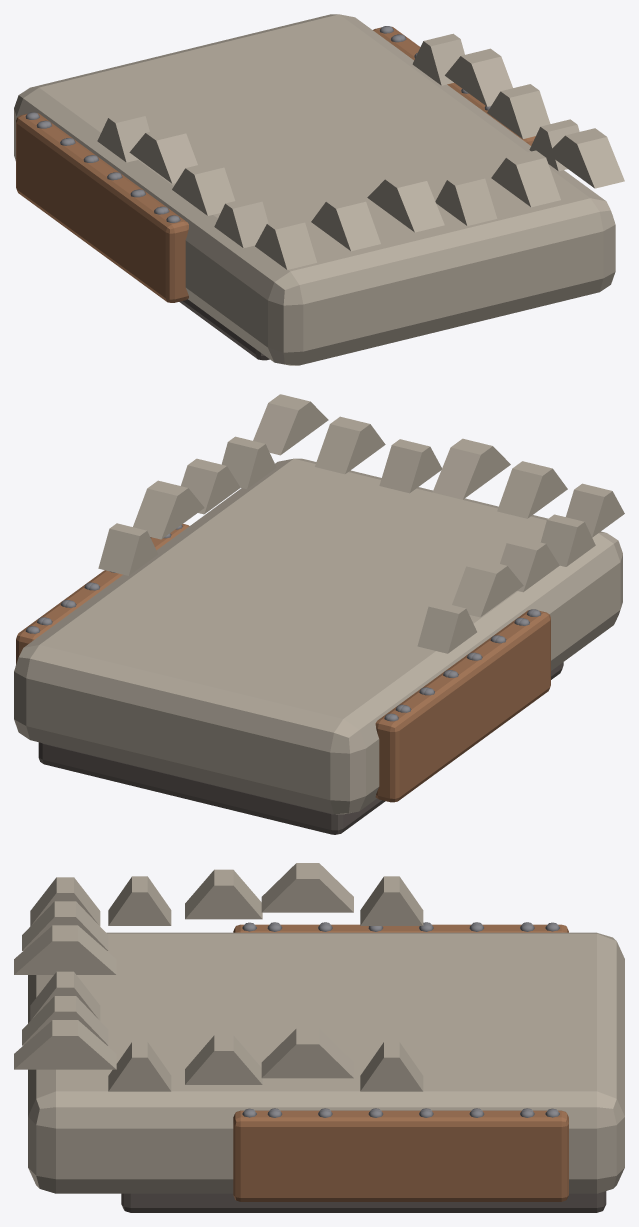
File: gleaner_jaw.glb
3 views of the same model, one above another, from view 1: azimuth 30°, elevation 25°; view 2: azimuth 150°, elevation 25°; view 3: azimuth 270°, elevation 25° (orthographic). The views are drawn at different scales.
Parts seen in each view (by area): view 1: gl_bone, gl_rust, gl_bone.006, gl_bone.003, gl_bone.005, gl_bone.002, gl_bone.009, gl_bone.013, gl_bone.008, gl_bone.012, gl_bone.004, gl_bone.001 (+6 smaller); view 2: gl_bone, gl_rust, gl_iron, gl_bone.003, gl_bone.006, gl_bone.013, gl_bone.009, gl_bone.002, gl_bone.005, gl_bone.004, gl_bone.010, gl_bone.014 (+6 smaller); view 3: gl_bone, gl_rust.001, gl_iron, gl_bone.006, gl_bone.003, gl_bone.013, gl_bone.009, gl_bone.008, gl_bone.012, gl_bone.014, gl_bone.011, gl_bone.010 (+6 smaller).
Part boxes in pixels (x1,y1,x2,y2): gl_bone: [14, 14, 615, 365]; gl_rust: [16, 113, 188, 302]; gl_bone.006: [547, 128, 624, 188]; gl_bone.003: [367, 172, 444, 232]; gl_bone.005: [491, 150, 560, 207]; gl_bone.002: [311, 194, 380, 251]; gl_bone.009: [129, 125, 197, 183]; gl_bone.013: [445, 48, 512, 106]; gl_bone.008: [172, 161, 235, 215]; gl_bone.012: [487, 84, 550, 138]; gl_bone.004: [435, 172, 497, 225]; gl_bone.001: [255, 216, 316, 269]; gl_bone: [14, 458, 622, 814]; gl_rust: [375, 610, 550, 802]; gl_iron: [38, 662, 563, 834]; gl_bone.003: [432, 438, 510, 499]; gl_bone.006: [253, 394, 328, 455]; gl_bone.013: [133, 480, 204, 539]; gl_bone.009: [452, 558, 523, 617]; gl_bone.002: [497, 461, 567, 518]; gl_bone.005: [315, 416, 385, 474]; gl_bone.004: [379, 439, 441, 493]; gl_bone.010: [417, 601, 476, 653]; gl_bone.014: [98, 523, 157, 575]; gl_bone: [28, 932, 624, 1193]; gl_rust.001: [233, 1110, 568, 1201]; gl_iron: [121, 1191, 606, 1212]; gl_bone.006: [14, 1020, 116, 1069]; gl_bone.003: [14, 925, 116, 974]; gl_bone.013: [261, 1028, 353, 1078]; gl_bone.009: [261, 863, 353, 912]; gl_bone.008: [185, 869, 262, 919]; gl_bone.012: [185, 1035, 262, 1084]; gl_bone.014: [360, 1042, 423, 1091]; gl_bone.011: [108, 1042, 171, 1091]; gl_bone.010: [360, 876, 423, 925].
Bounding box in the file's own units: 25.2 × 11.15 × 32.75.
